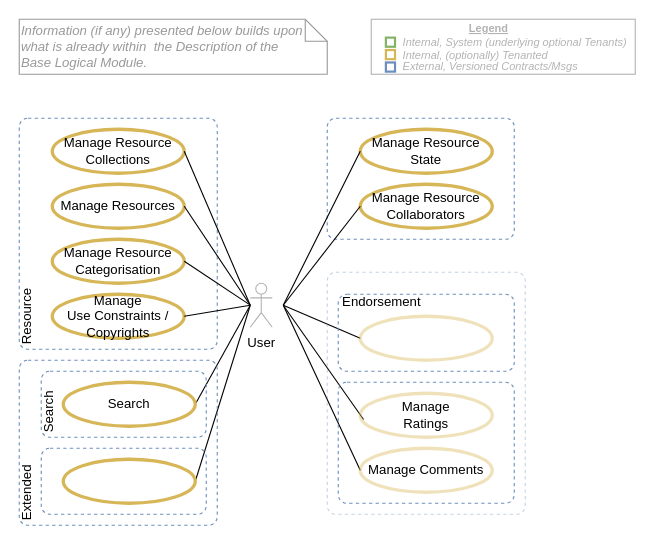
This 655x545 diagram has some shape labels left out. Here are the shapes that lost their labels. From the top down, the box of each, then its label:
(326, 117, 514, 239): Flow managed Creation
(358, 314, 493, 361): Manage Endorsements
(326, 271, 525, 514): Common Functionality Extension
(337, 381, 514, 503): Feedback
(40, 447, 206, 514): Links
(61, 457, 196, 504): Manage Resource Relationships
